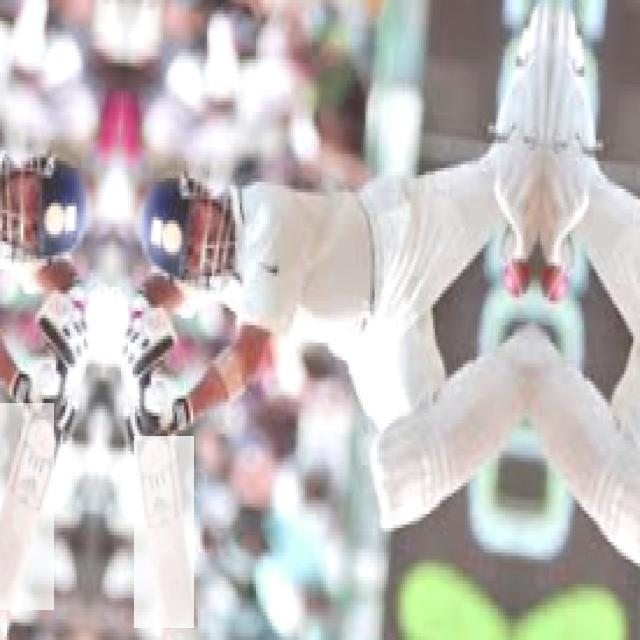bat: (135, 438, 194, 625)
